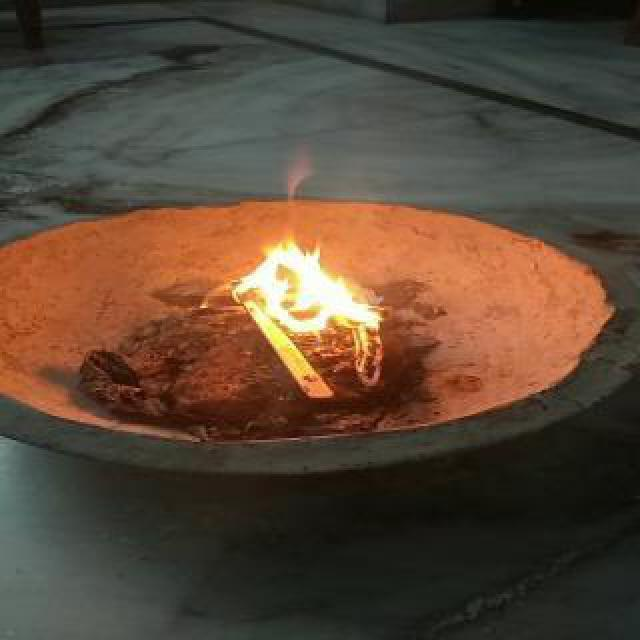Fire: (222, 236, 376, 366)
Smoke: (266, 154, 328, 224)
